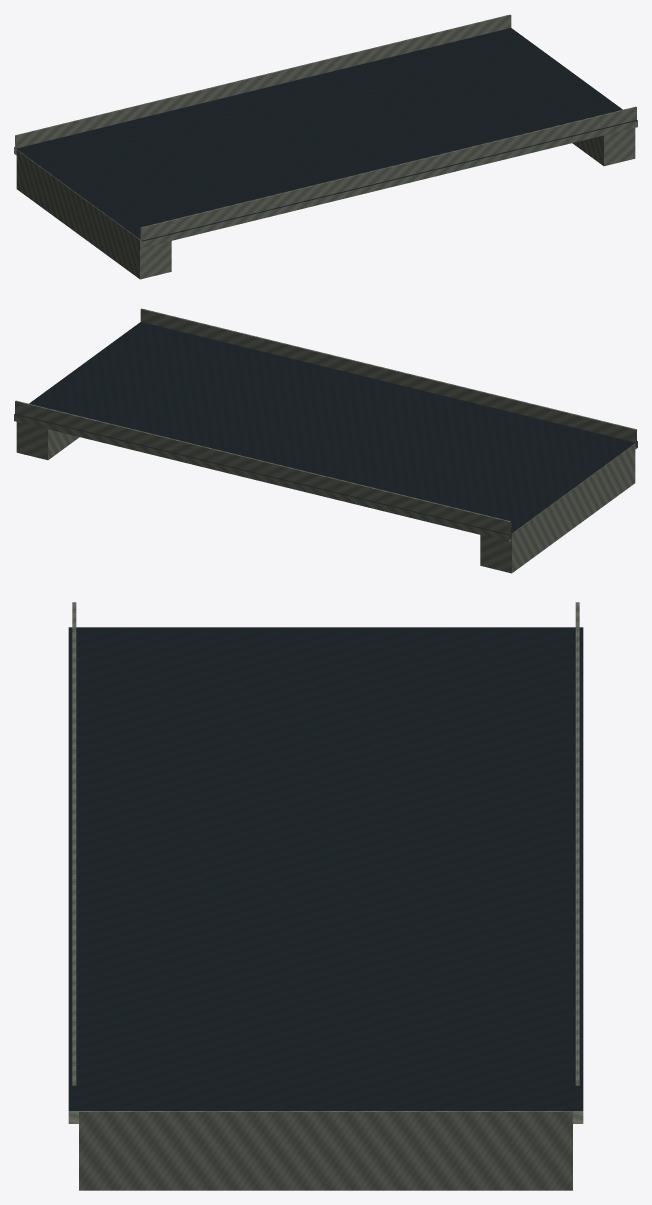
Rendered from bridge_4lane_32m_ShadowProxy.glb.
3 renders of one model, top to bottom at view 1: azimuth 30°, elevation 25°; view 2: azimuth 150°, elevation 25°; view 3: azimuth 270°, elevation 25°, orthographic. The views are drawn at different scales.
Visible parts, largest first — view 1: bridge_4lane_32m__deck.003, bridge_4lane_32m__pier.003; view 2: bridge_4lane_32m__deck.003, bridge_4lane_32m__pier.003; view 3: bridge_4lane_32m__deck.003, bridge_4lane_32m__pier.003.
Boxes of the visible parts, box(x1,y1,x2,y2) form: bridge_4lane_32m__deck.003: box(14, 14, 637, 247); bridge_4lane_32m__pier.003: box(16, 128, 635, 279); bridge_4lane_32m__deck.003: box(14, 308, 637, 541); bridge_4lane_32m__pier.003: box(16, 422, 635, 573); bridge_4lane_32m__deck.003: box(68, 602, 583, 1123); bridge_4lane_32m__pier.003: box(79, 1111, 572, 1190).
Size of the model in its own units: 32 by 4.19 by 14.4.
Materials: 2 (2 with a texture image).
